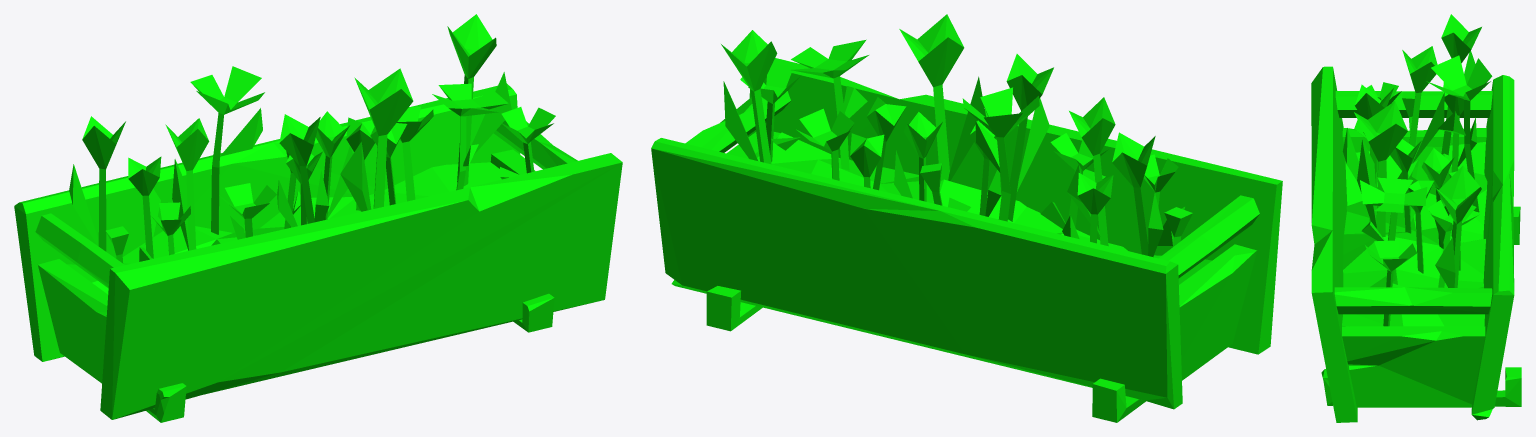
The model's file is SM_Flower_Box_Wooden_Tall_Window_Fantasy.fbx.
The picture shows the model from 3 angles, left to right: view 1: azimuth 30°, elevation 25°; view 2: azimuth 150°, elevation 25°; view 3: azimuth 270°, elevation 25°; orthographic projection. The views are drawn at different scales.
Visible parts, largest first — view 1: flower-box-wooden-tall-window-fantasy; view 2: flower-box-wooden-tall-window-fantasy; view 3: flower-box-wooden-tall-window-fantasy.
Part boxes in pixels (x1=…): flower-box-wooden-tall-window-fantasy: x1=14, y1=14, x2=622, y2=422; flower-box-wooden-tall-window-fantasy: x1=651, y1=14, x2=1282, y2=422; flower-box-wooden-tall-window-fantasy: x1=1311, y1=14, x2=1521, y2=422.
Bounding box in the file's own units: 0.932 × 0.4707 × 0.3765.
